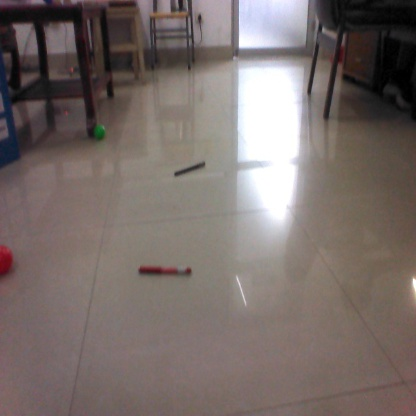ball: (1, 244, 19, 276), (92, 125, 108, 143)
pen: (137, 263, 196, 275), (173, 160, 207, 176)
